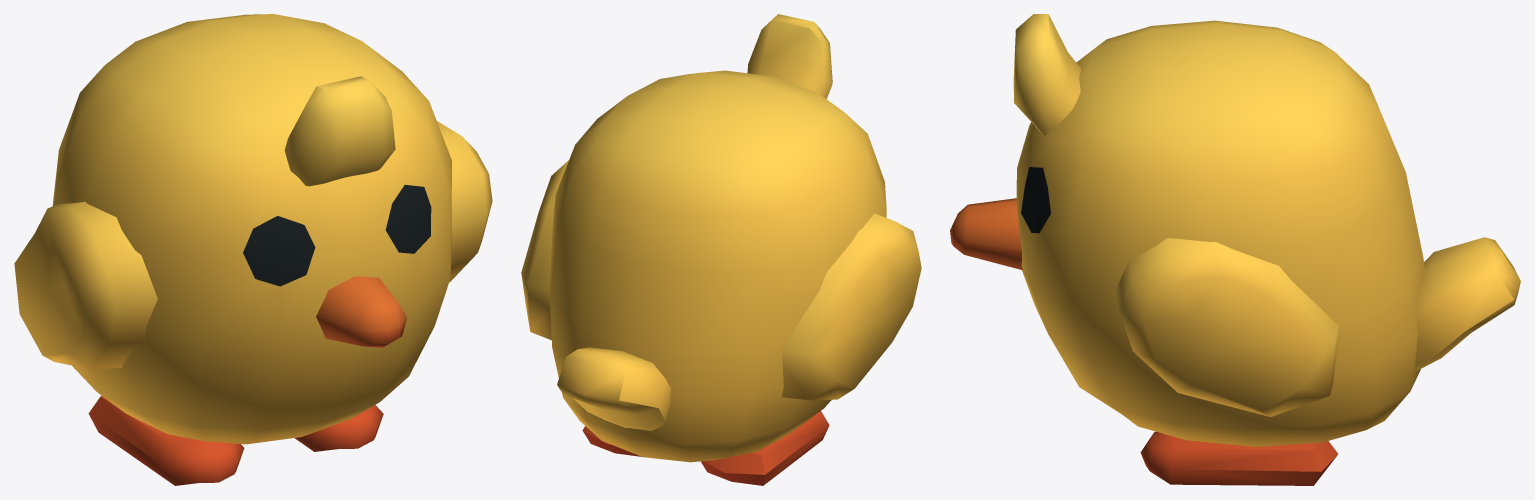
File: Bird.glb
3 renders of one model, left to right at view 1: azimuth 30°, elevation 25°; view 2: azimuth 150°, elevation 25°; view 3: azimuth 270°, elevation 25°, orthographic. The views are drawn at different scales.
Visible parts, largest first — view 1: bird; view 2: bird; view 3: bird.
Boxes of the visible parts, x1,y1,x2,y2 form: bird: [14, 14, 492, 485]; bird: [521, 14, 921, 485]; bird: [950, 14, 1520, 485].
Bounding box in the file's own units: 0.4422 × 0.4404 × 0.5501.
Materials: 1 (1 with a texture image).
